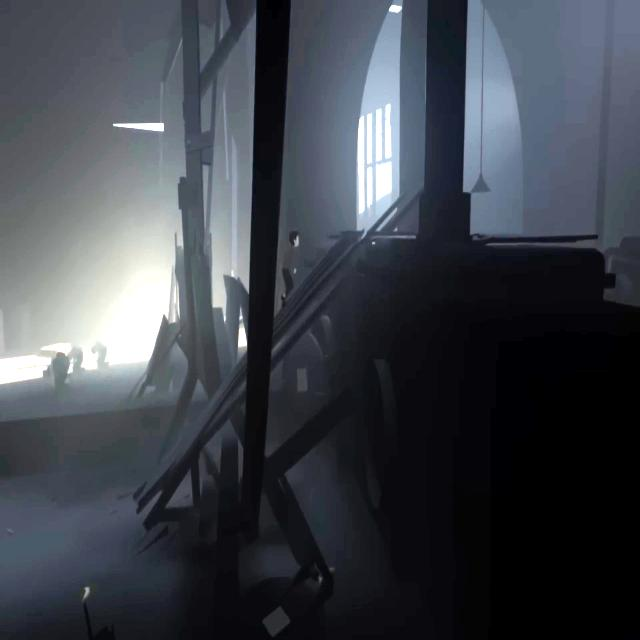boy: (281, 231, 299, 309)
zombie: (43, 352, 69, 403), (70, 346, 85, 373), (92, 343, 108, 368)
